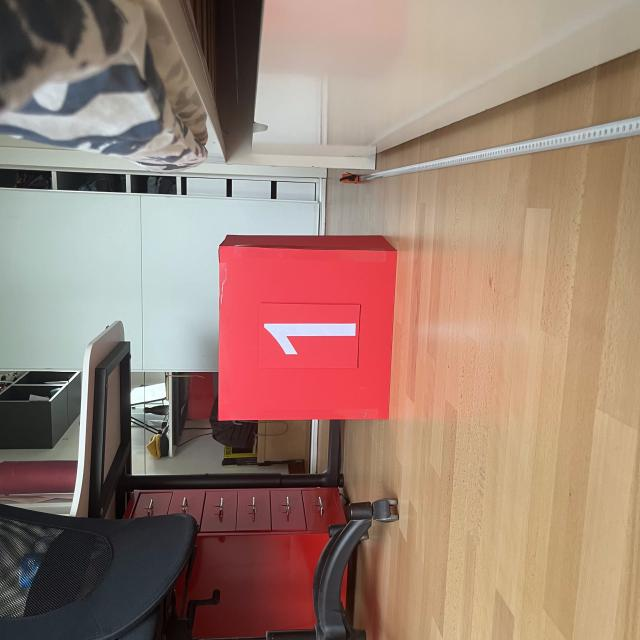box: (213, 230, 401, 422)
